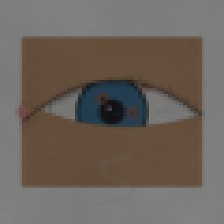foreign_body_visible: (129, 69, 164, 98)
